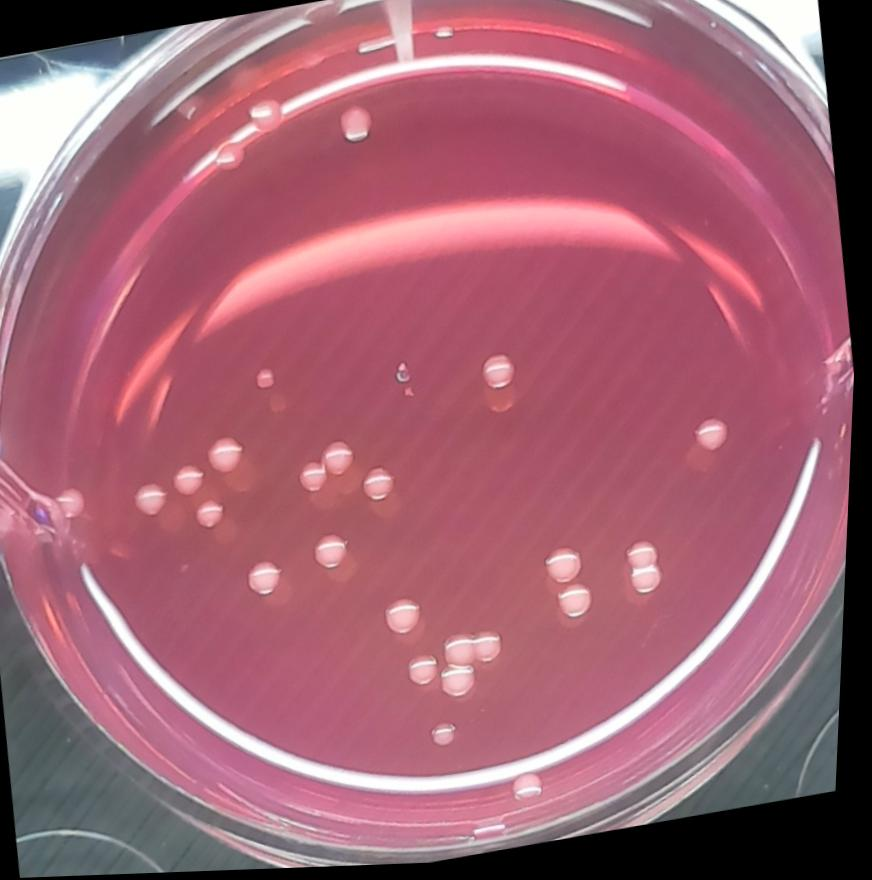bcereus: (618, 529, 681, 610), (470, 341, 532, 409), (327, 97, 385, 159), (201, 425, 257, 487), (378, 589, 434, 649), (354, 457, 407, 514), (309, 526, 360, 582), (689, 416, 742, 468), (320, 435, 362, 483), (293, 456, 335, 502)
